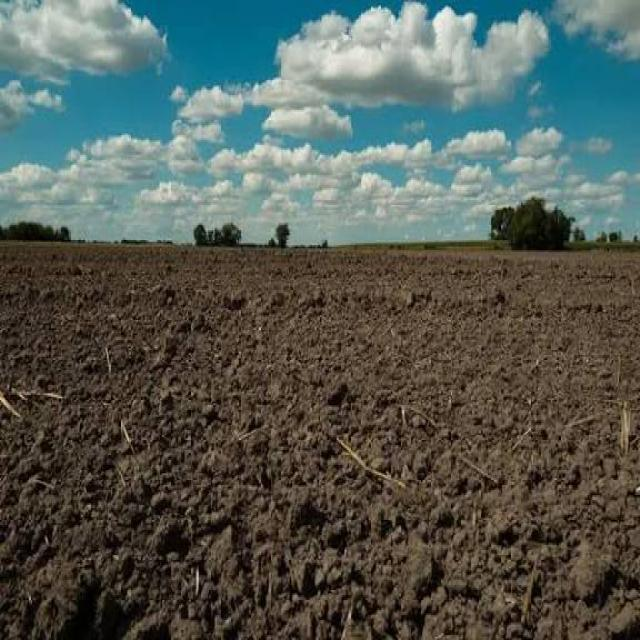suelo_humedo: (103, 241, 596, 558)
